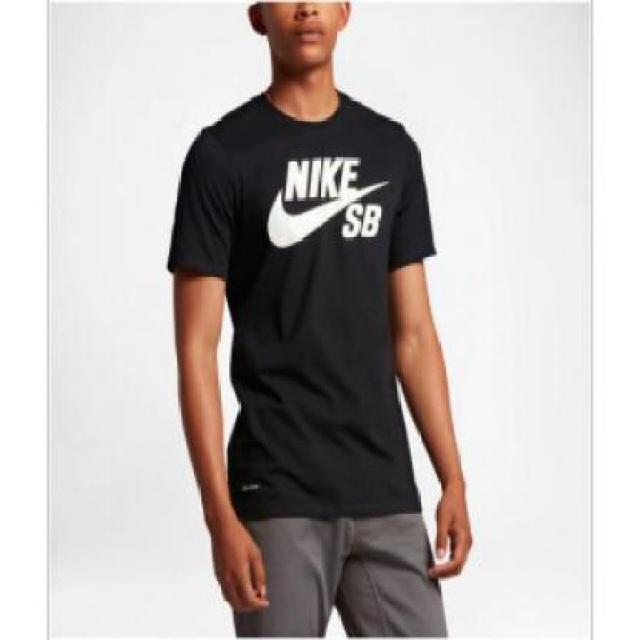Nike: (262, 151, 390, 244)
